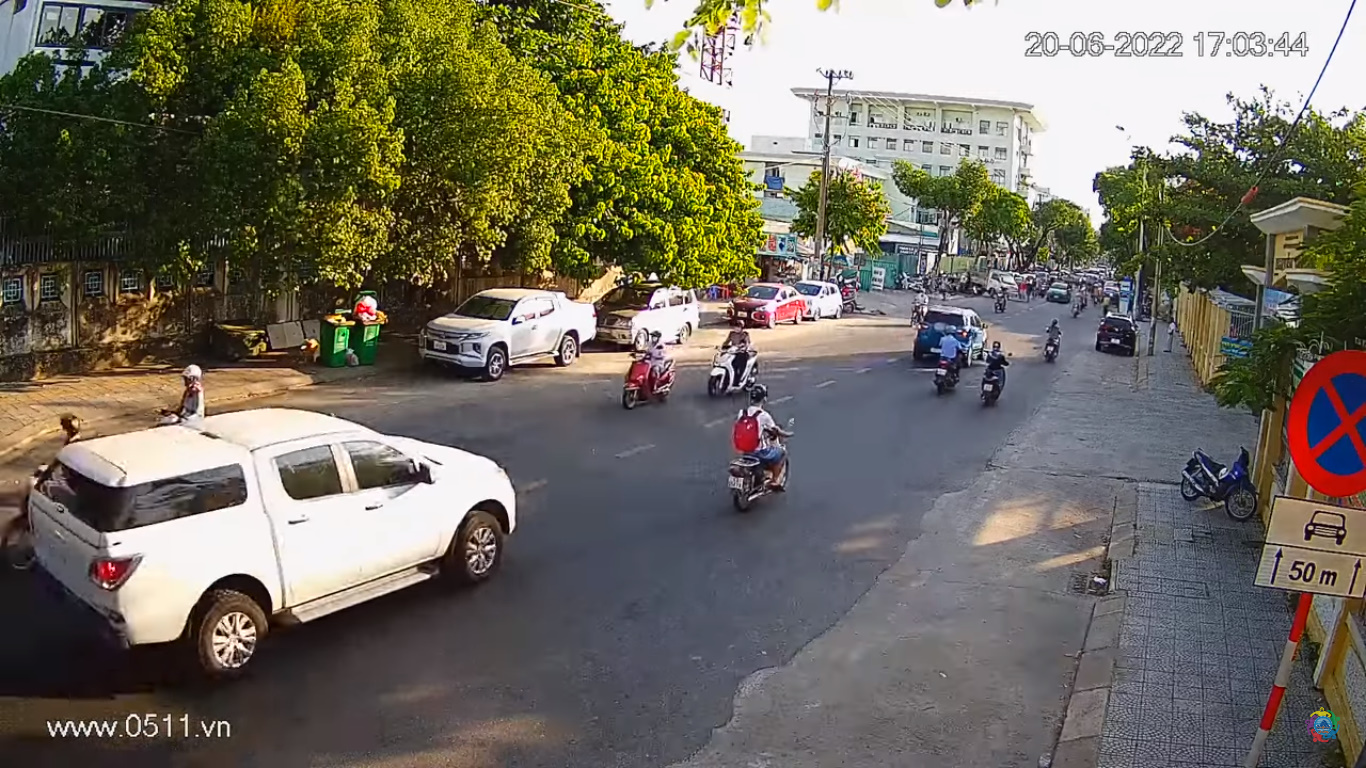car: (20, 405, 523, 683)
